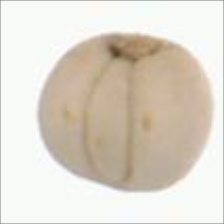L5: (83, 57, 138, 182), (97, 31, 180, 61)
L6: (35, 32, 215, 198)
